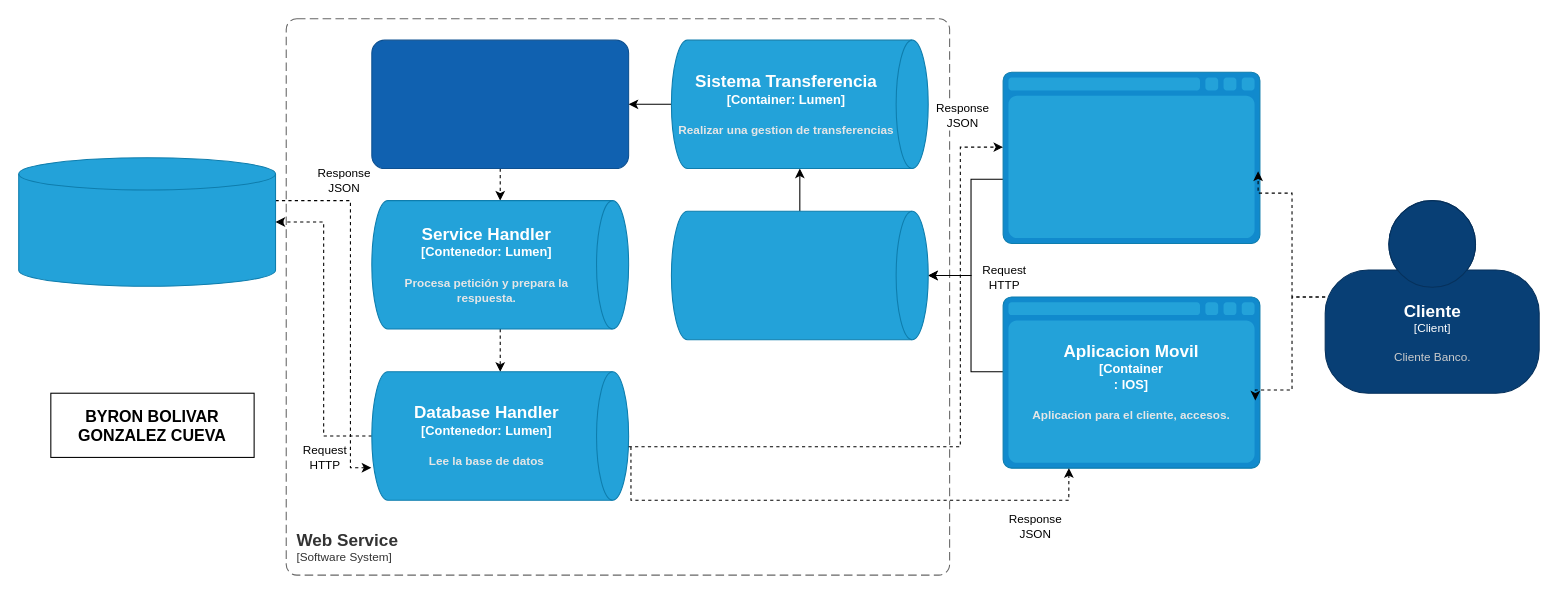
The diagram is 1558 pixels wide and 594 high, and some of its shapes have lost their labels. The centre of each missing label's shape, as x and y in pixels:
"Aplicacion Web [Container : Django] Aplicacion para el cliente." belongs at point 1131,157.
"Container [BD: SQL] Base de datos Bancaria." belongs at point 147,221.
"Controller Login [Container: Lumen] Autenticar usuario" belongs at point 799,275.
"REST Request Handler [Software System] Controla las peticiones." belongs at point 500,104.
